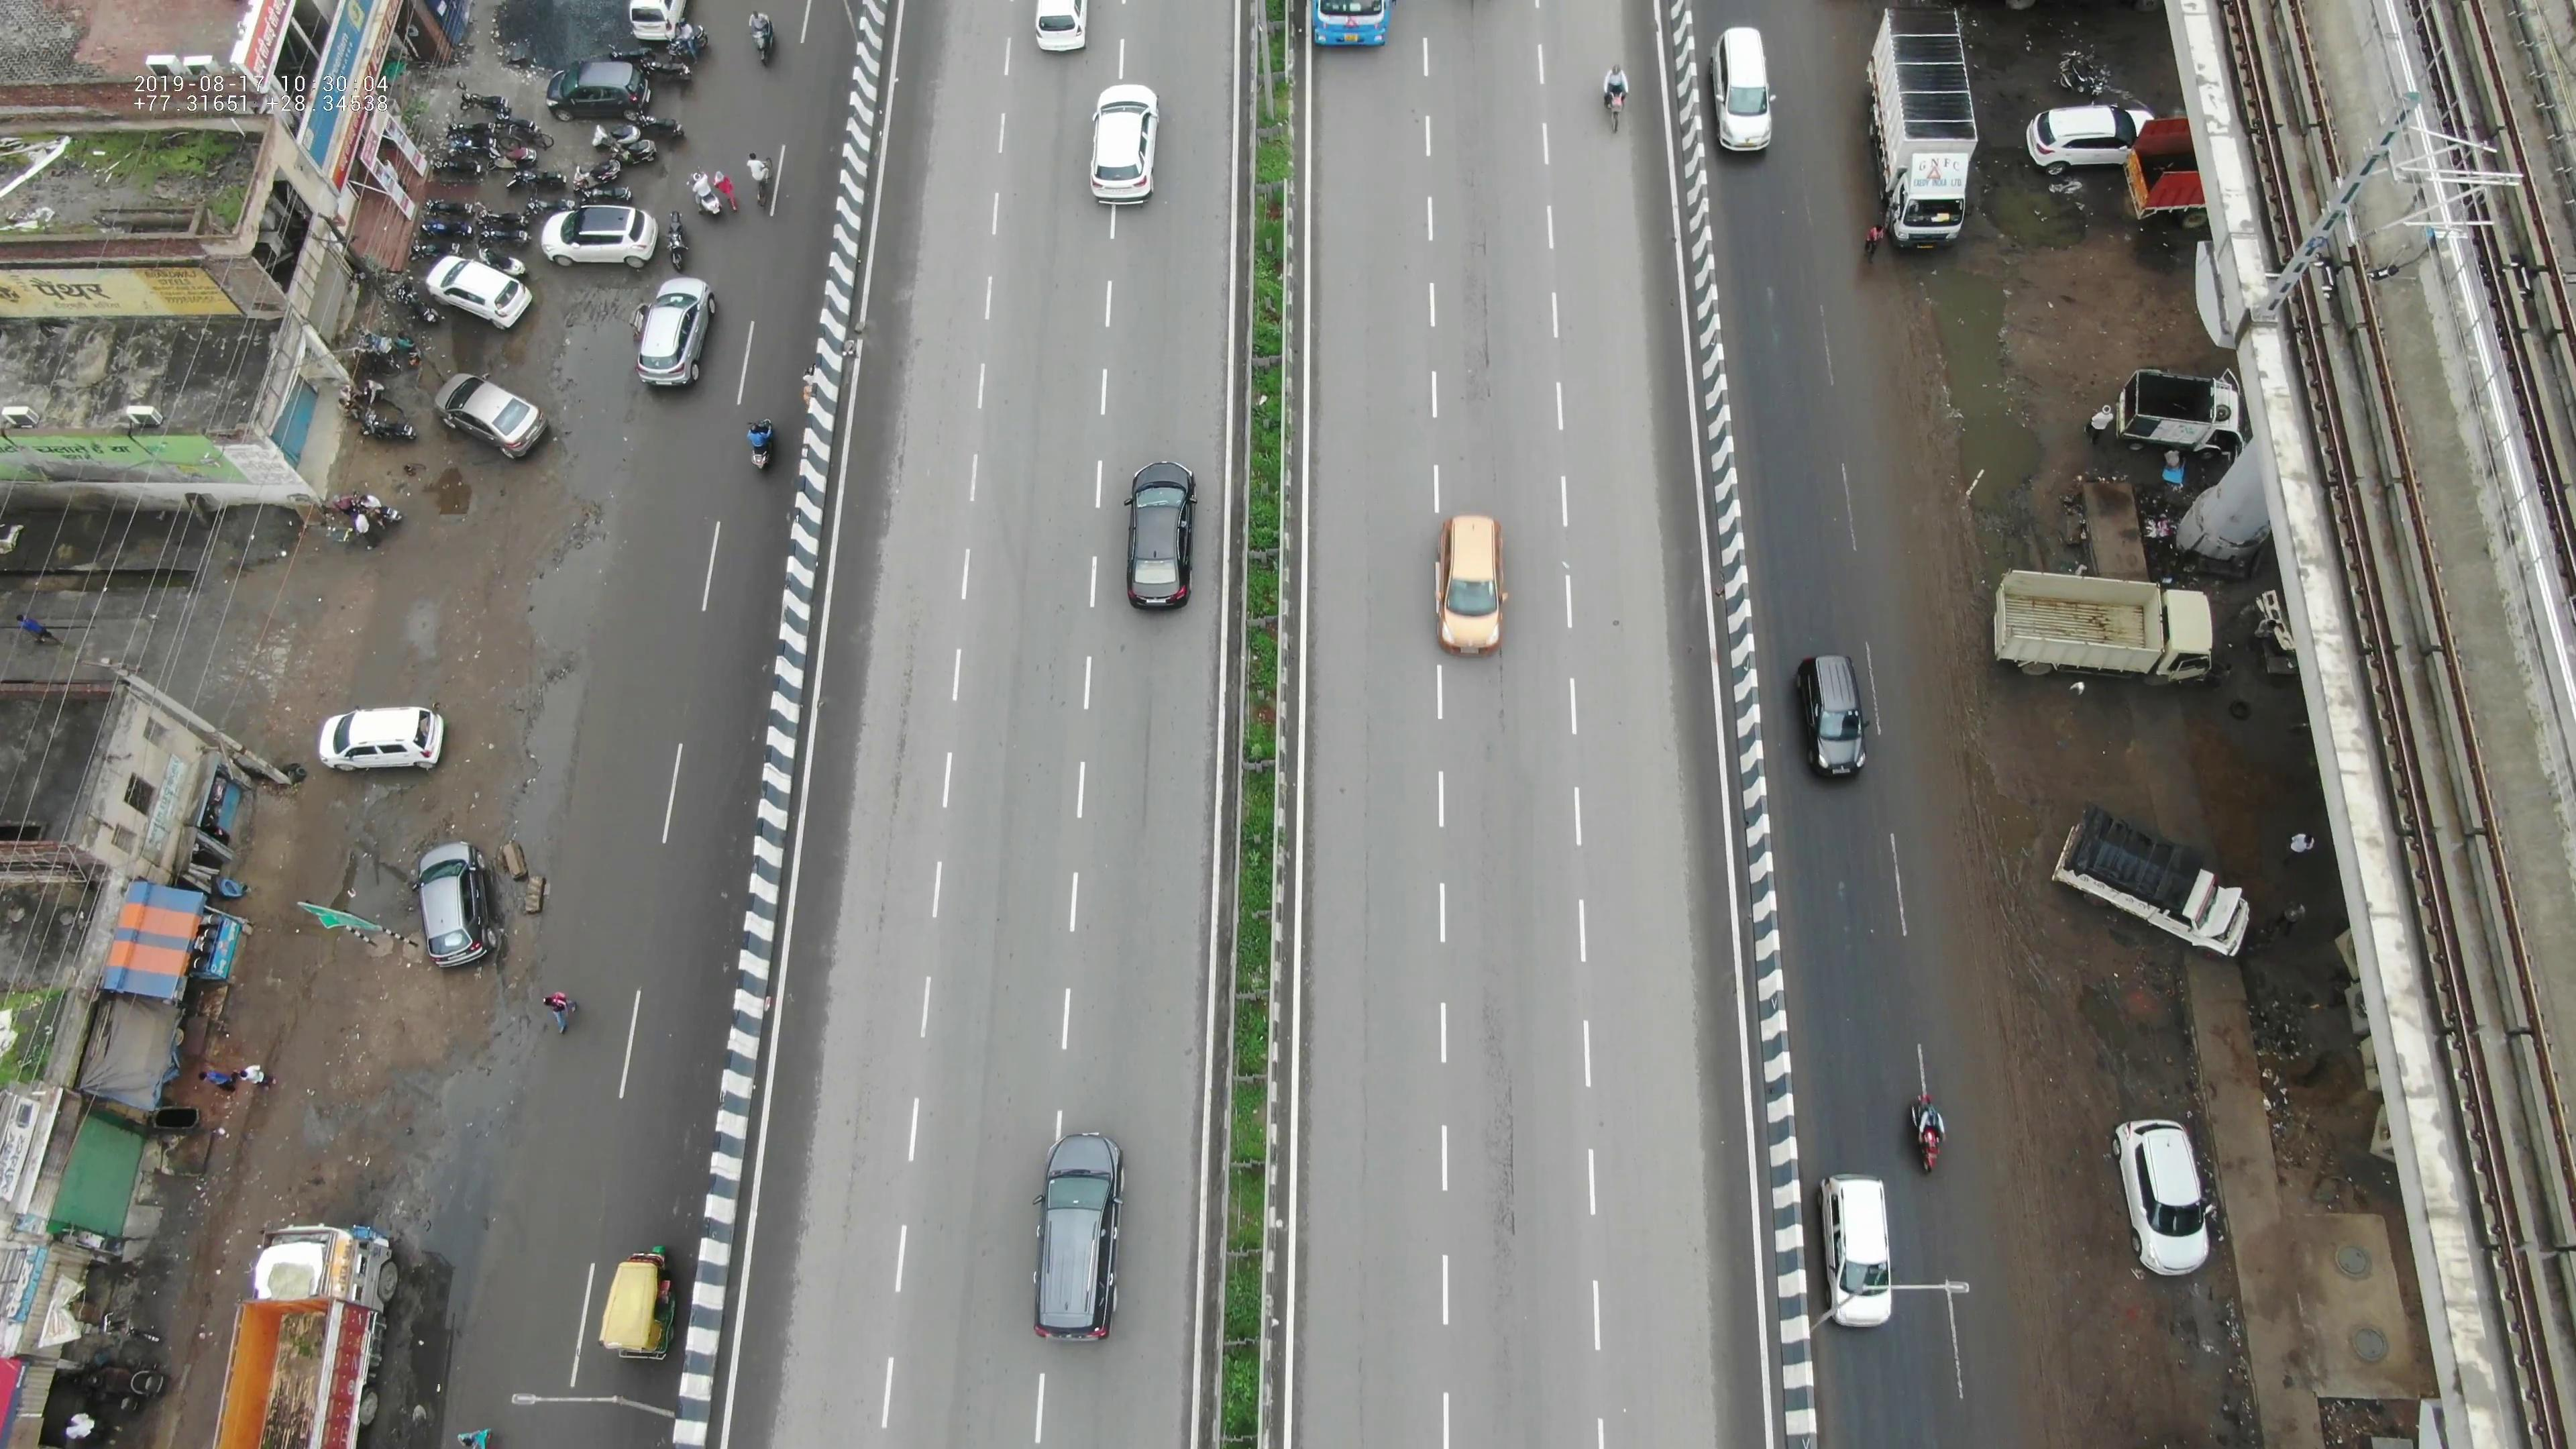Muddy_road: (1997, 916, 2162, 1097), (2051, 1304, 2229, 1444)
Ravelling: (860, 628, 938, 948), (1433, 180, 1504, 481), (1467, 985, 1529, 1284)
Waterlogging: (508, 513, 626, 830), (1941, 258, 2068, 511)
